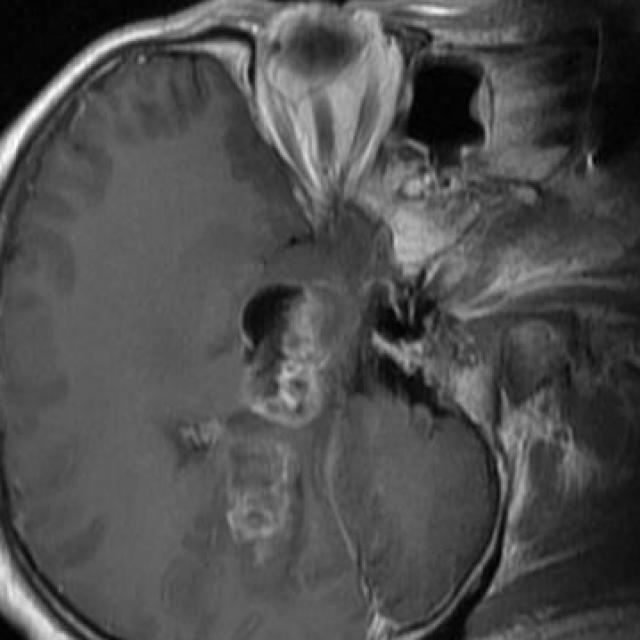glioma: (168, 276, 357, 587)
